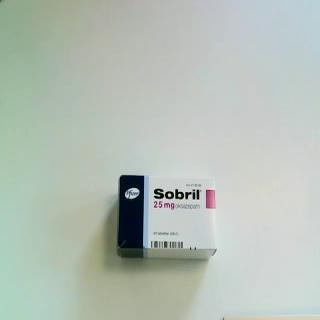sobril25mg: (116, 171, 220, 264)
